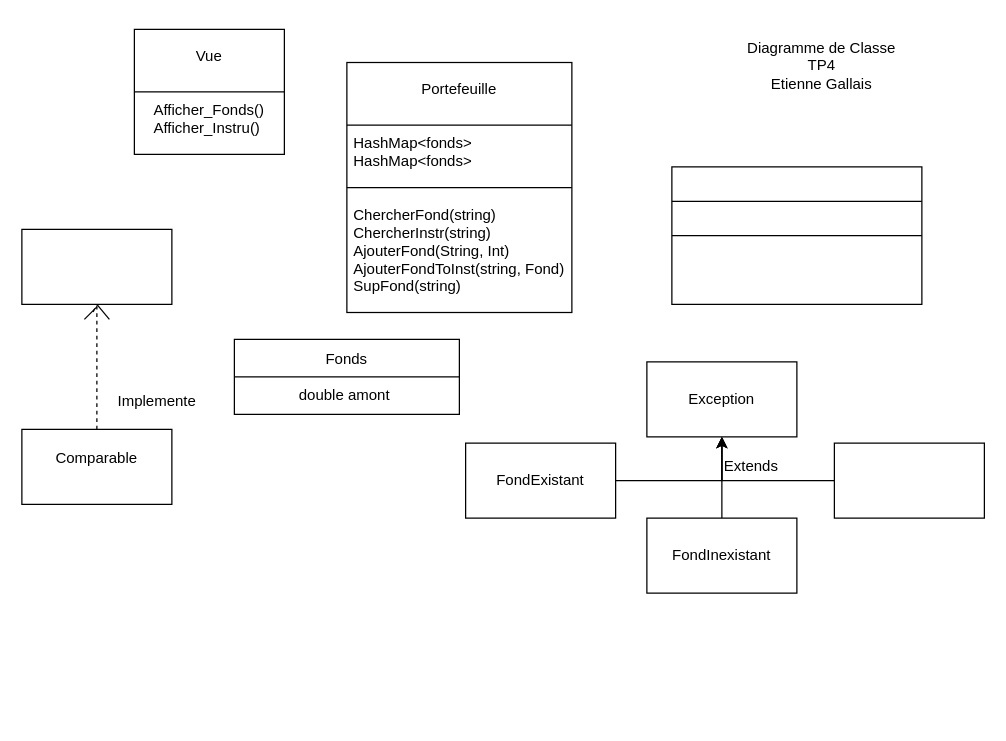
Image size: 1006x741. Some labels were removed from this diagram. The shapes that lost their labels are listed below. From the top down, each one's box as (x1, y1, x2, y2) in pixels, then its label:
(671, 166, 922, 304): Instrument ArrayList<Fond> AjouterFonds(Fonds) Trier()
(21, 228, 172, 304): ComparerFond
(833, 442, 984, 518): InstrumentInexistant
